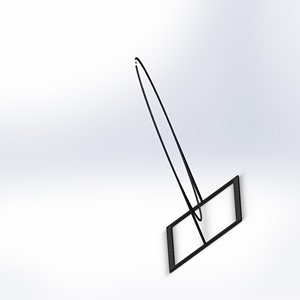circle: (130, 56, 244, 273)
